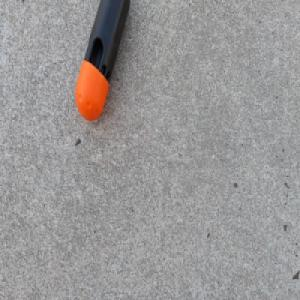PlasticPart: (74, 0, 130, 124)
